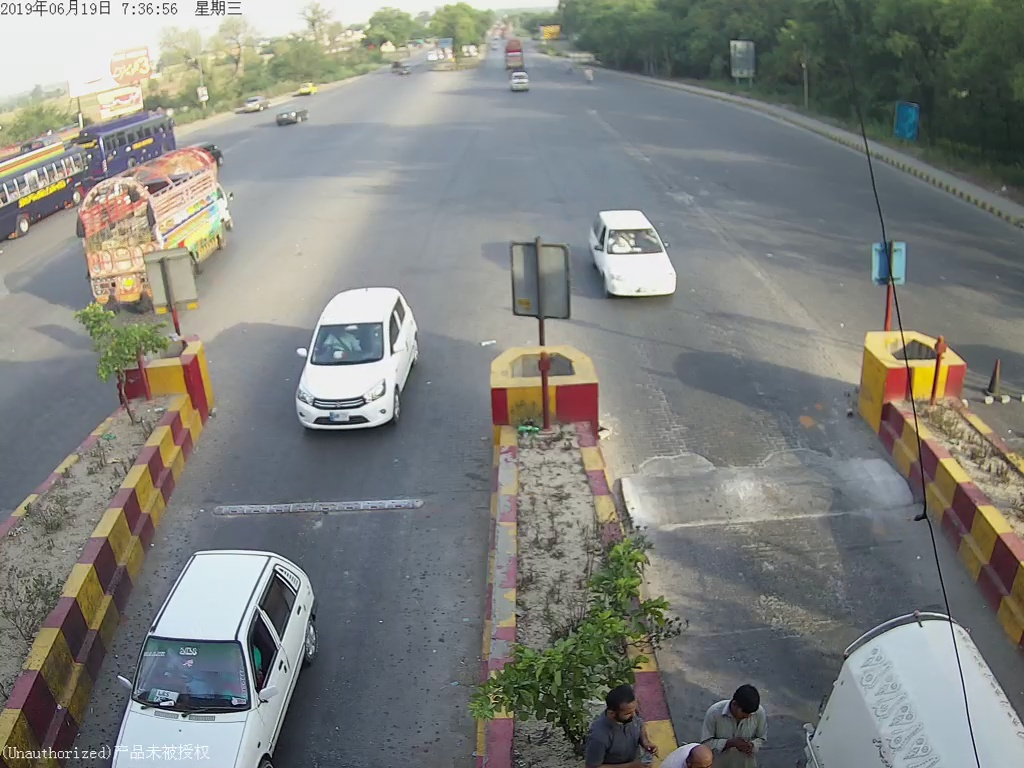Cat-1: (126, 548, 314, 768), (296, 284, 423, 430), (586, 205, 683, 304)
